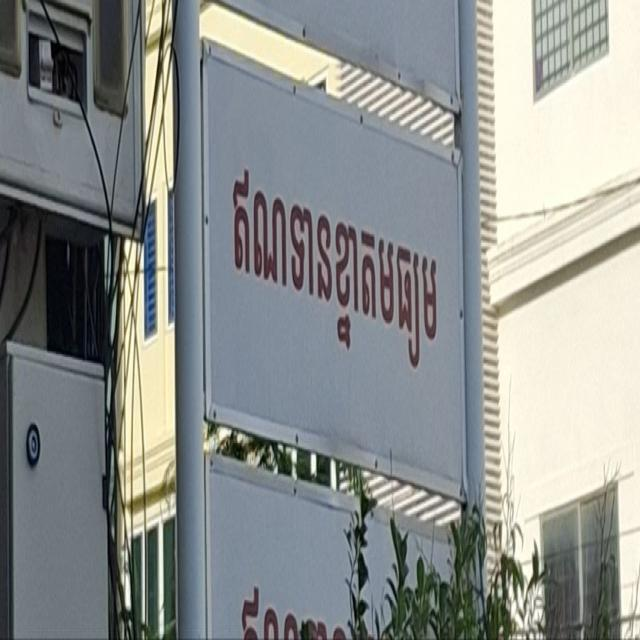Yolov11kh: (216, 114, 446, 440)
